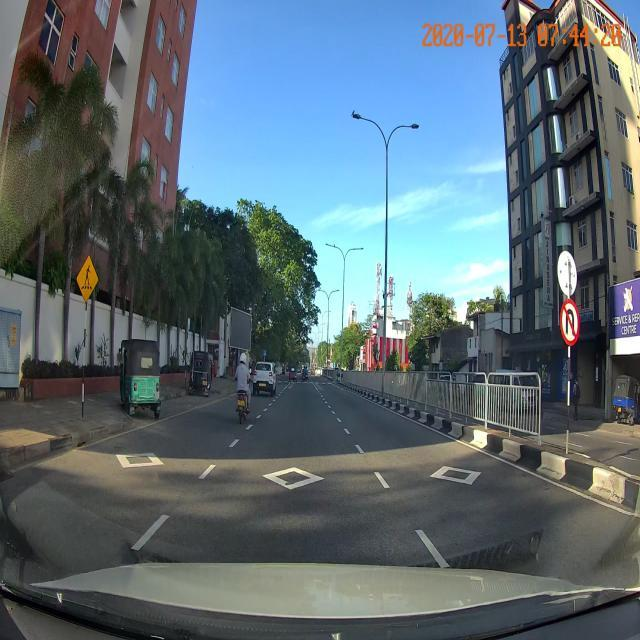diamond: (193, 464, 394, 494)
